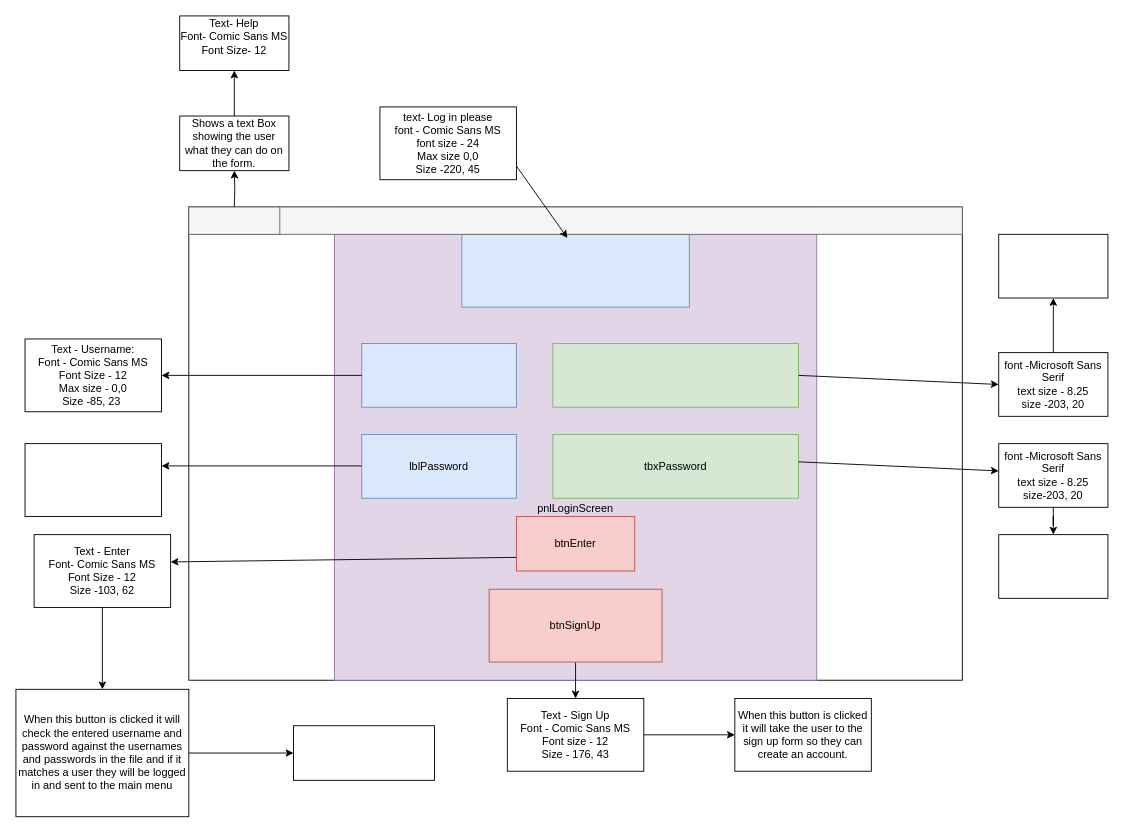
Image size: 1124x833. Some labels were removed from this diagram. The centre of each missing label's shape, as x and y in pixels:
btnHelp: (234,220)
If the user doesn't exist then then tbxpassword and tbxusername will be cleared: (364,752)
lblLogin: (575,270)
lblUsername: (438,375)
tbxUsername: (675,375)
Text - Password: Font - Comic Sans MS Font Size - 12 Max size - 0,0 Size -81, 23: (93,479)
The user will enter their password into this textbox: (1053,566)
The user will enter their username into this textbox: (1053,265)
